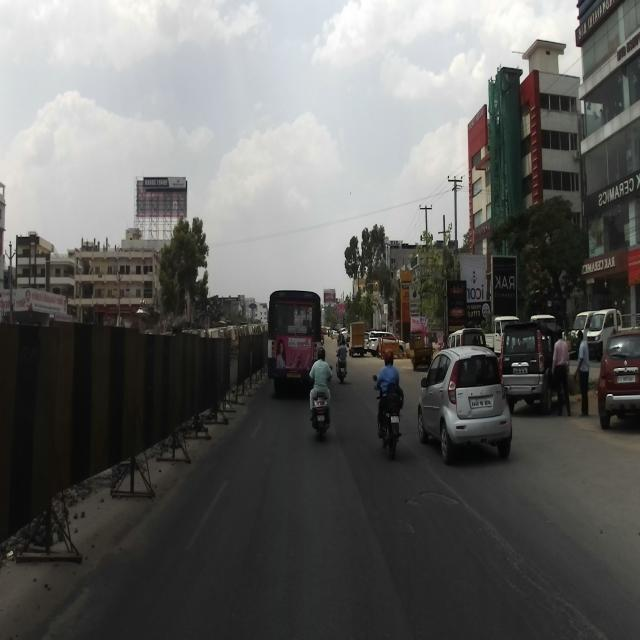pothole: (397, 484, 445, 548)
